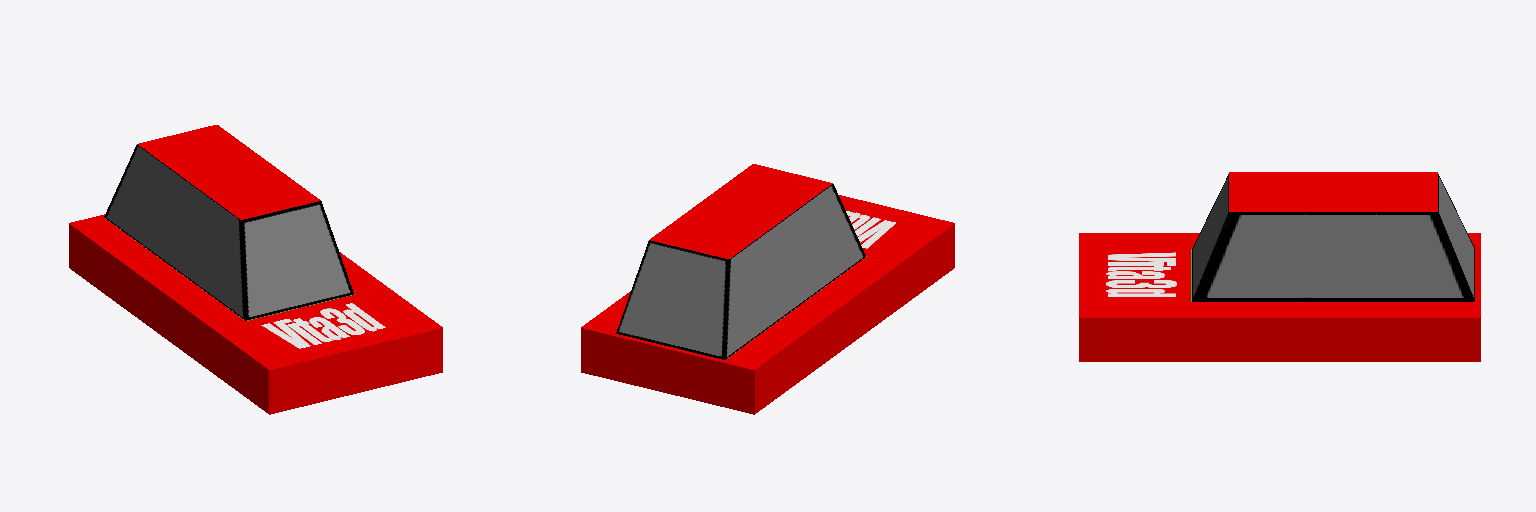
3 renders of one model, left to right at view 1: azimuth 30°, elevation 25°; view 2: azimuth 150°, elevation 25°; view 3: azimuth 270°, elevation 25°, orthographic.
Visible parts, largest first — view 1: chassis; view 2: chassis; view 3: chassis.
Boxes of the visible parts, x1,y1,x2,y2 form: chassis: [69, 125, 442, 414]; chassis: [581, 164, 954, 414]; chassis: [1079, 172, 1480, 361].
Size of the model in its own units: 3.27 by 2.3 by 6.53.
Materials: 1 (1 with a texture image).